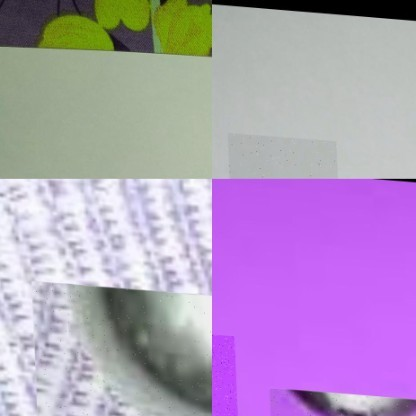ironball: (29, 278, 212, 415), (225, 130, 338, 178), (266, 383, 415, 415)
